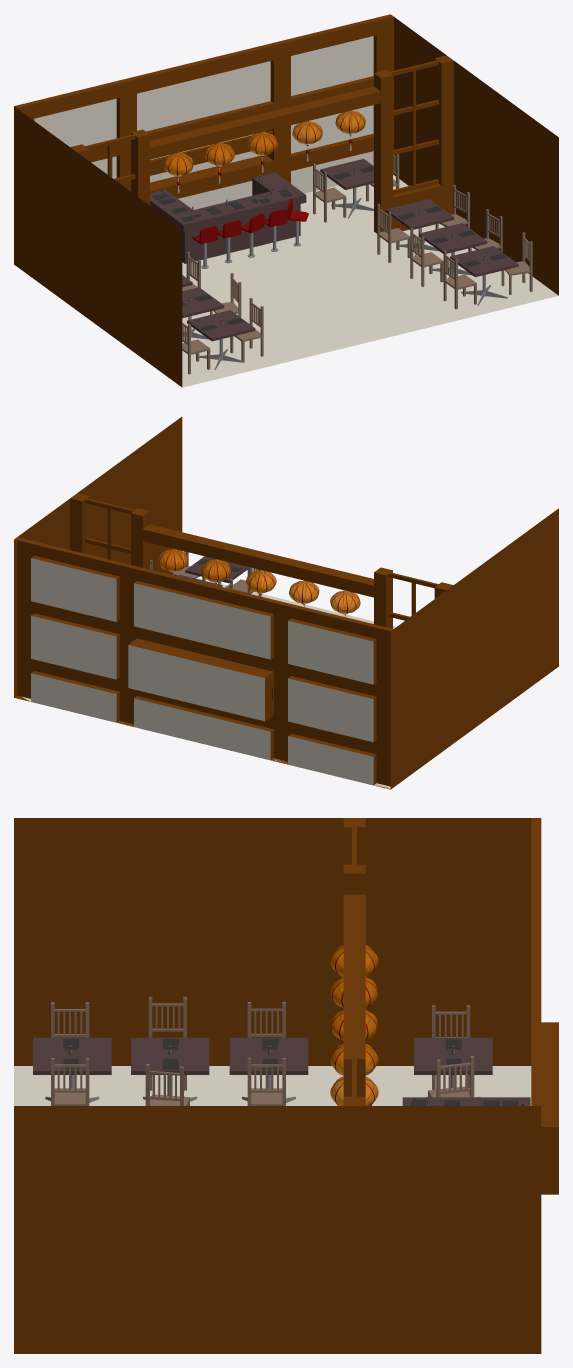
Rendered from Sushi_Restaurant.fbx.
The picture shows the model from 3 angles, top to bottom: view 1: azimuth 30°, elevation 25°; view 2: azimuth 150°, elevation 25°; view 3: azimuth 270°, elevation 25°; orthographic projection. The views are drawn at different scales.
Visible parts, largest first — view 1: pCube1, polySurface19, pCube2, polySurface10, polySurface13, polySurface18, polySurface12, polySurface7, polySurface9, pCube45, pCube81, pCube47 (+12 smaller); view 2: pCube1, polySurface19, polySurface16, polySurface15, polySurface17, polySurface1, polySurface14; view 3: pCube1, polySurface19, polySurface9, polySurface8, polySurface10, polySurface6, pCube42, pCube38, pCube33, pCube40, pCube39, pCube41 (+3 smaller).
Boxes of the visible parts, bbox=[...] form: pCube1: bbox=[14, 14, 558, 387]; polySurface19: bbox=[70, 55, 453, 233]; pCube2: bbox=[150, 172, 306, 263]; polySurface10: bbox=[187, 310, 255, 369]; polySurface13: bbox=[450, 246, 518, 305]; polySurface18: bbox=[386, 199, 454, 256]; polySurface12: bbox=[419, 223, 487, 278]; polySurface7: bbox=[320, 158, 373, 218]; polySurface9: bbox=[182, 287, 224, 341]; pCube45: bbox=[410, 228, 443, 286]; pCube81: bbox=[377, 204, 410, 262]; pCube47: bbox=[443, 250, 476, 309]; pCube1: bbox=[14, 416, 558, 789]; polySurface19: bbox=[70, 493, 453, 748]; polySurface16: bbox=[201, 559, 231, 585]; polySurface15: bbox=[246, 570, 276, 596]; polySurface17: bbox=[158, 548, 188, 575]; polySurface1: bbox=[330, 590, 360, 616]; polySurface14: bbox=[289, 580, 319, 606]; pCube1: bbox=[14, 818, 558, 1353]; polySurface19: bbox=[343, 818, 365, 1353]; polySurface9: bbox=[131, 1037, 209, 1101]; polySurface8: bbox=[229, 1037, 308, 1102]; polySurface10: bbox=[33, 1037, 111, 1102]; polySurface6: bbox=[414, 1037, 492, 1097]; pCube42: bbox=[51, 1058, 89, 1105]; pCube38: bbox=[247, 1058, 285, 1105]; pCube33: bbox=[428, 1056, 474, 1097]; pCube40: bbox=[145, 1064, 189, 1105]; pCube39: bbox=[148, 997, 186, 1090]; pCube41: bbox=[51, 1002, 89, 1037].
Bounding box in the file's own units: 31 × 12.46 × 24.81.
